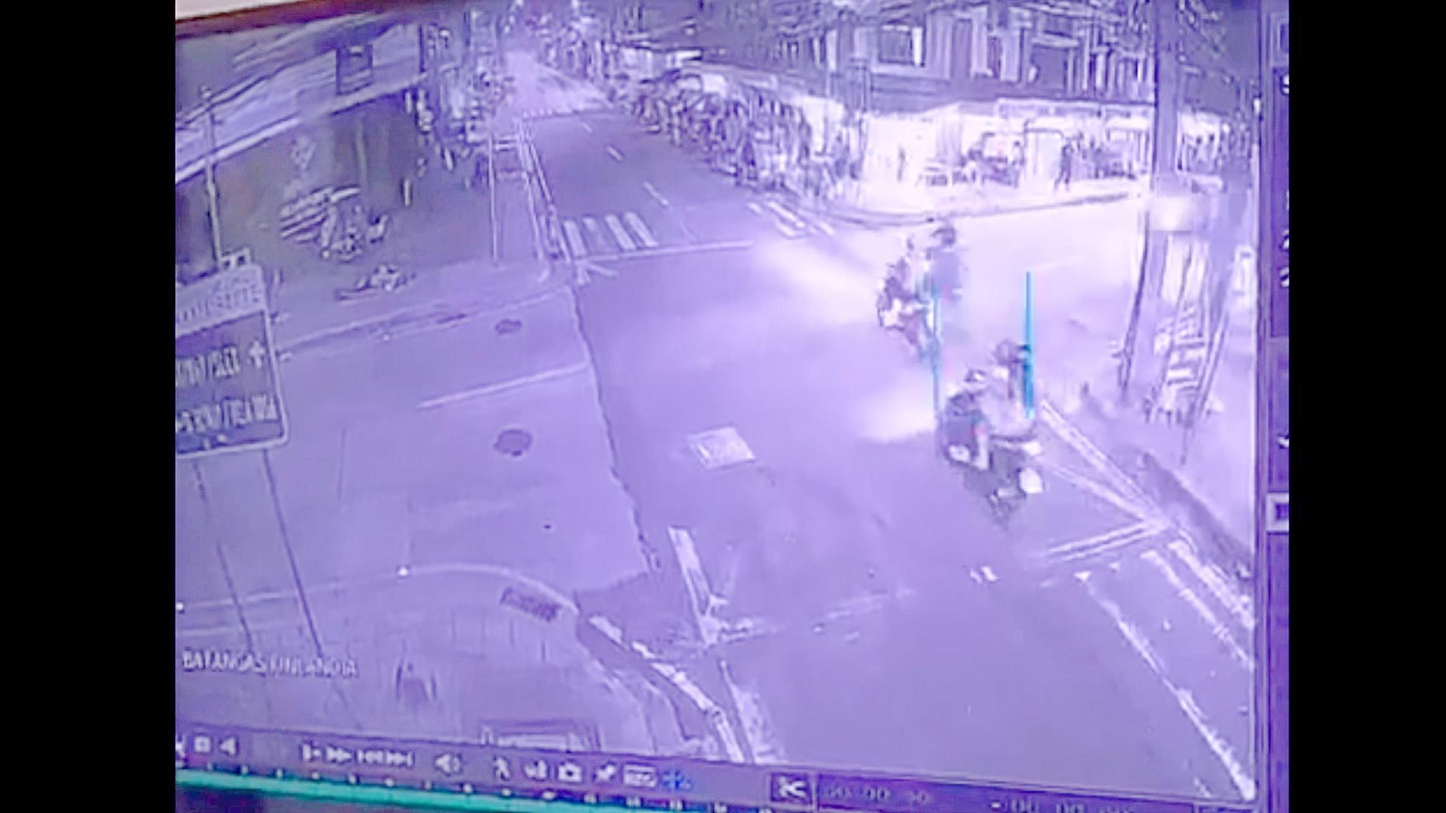Major Accident: (877, 206, 965, 361)
Motor: (935, 333, 1044, 520), (881, 241, 945, 356), (910, 219, 965, 329)
